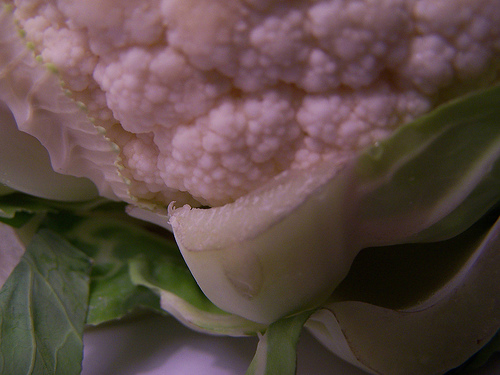cauliflower: (2, 0, 499, 206)
